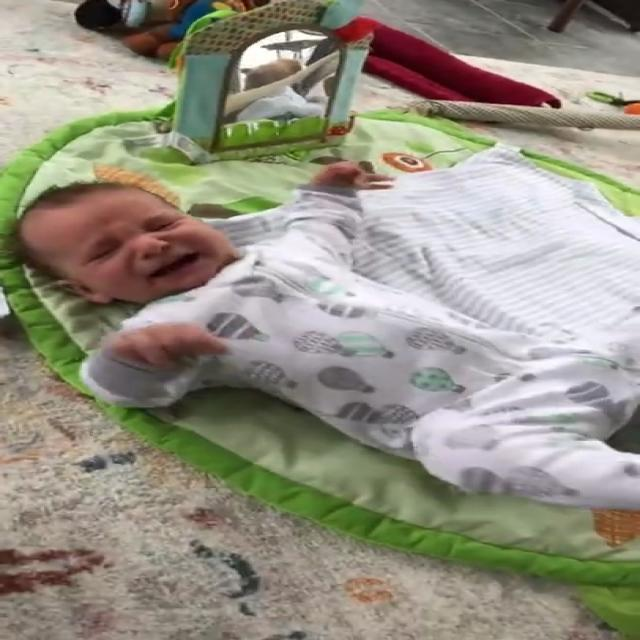baby: (9, 157, 640, 517)
